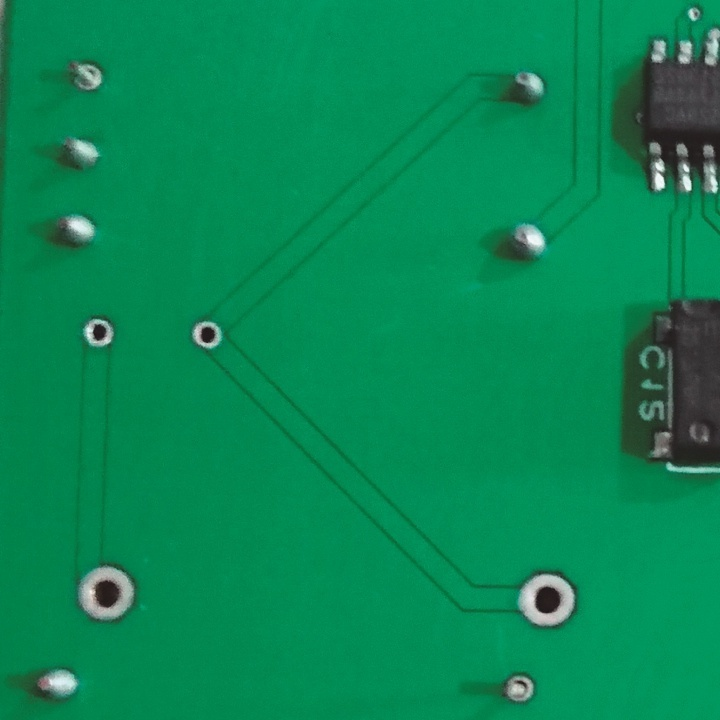F: (513, 567, 581, 635), (73, 562, 141, 628), (66, 54, 107, 95), (497, 669, 538, 704), (81, 315, 118, 351), (188, 316, 223, 352)
